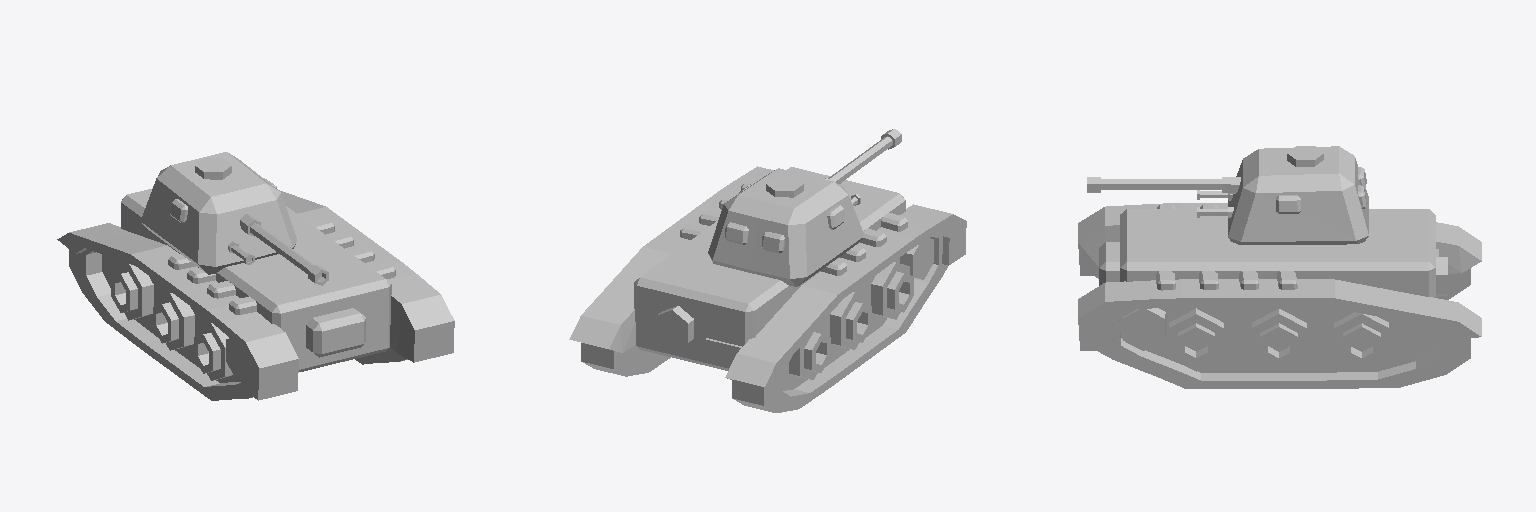
The model's file is tank.obj.
3 renders of one model, left to right at view 1: azimuth 30°, elevation 25°; view 2: azimuth 150°, elevation 25°; view 3: azimuth 270°, elevation 25°, orthographic.
Parts seen in each view (by area): view 1: Cube.003, Cube.001, Cube, Cube.002, Cube.006, Cube.004, Plane, Circle.001, Circle.003; view 2: Cube.003, Cube.001, Cube, Cube.002, Cube.006, Cube.004, Circle.004, Cube.005, Circle.001, Cube.007, Circle.003; view 3: Cube.001, Cube.003, Cube.002, Cube, Cube.006, Circle.001, Cube.004, Cube.007, Plane, Cube.005, Circle.003, Circle.002.
Part boxes in pixels (x1,y1,x2,y2): Cube.003: (57, 189, 454, 400); Cube.001: (121, 188, 391, 371); Cube: (141, 152, 296, 274); Cube.002: (69, 249, 407, 400); Cube.006: (111, 263, 232, 380); Cube.004: (168, 218, 395, 314); Plane: (306, 308, 365, 357); Circle.001: (240, 213, 328, 285); Circle.003: (195, 158, 231, 179); Cube.003: (569, 166, 966, 386); Cube.001: (634, 167, 905, 370); Cube: (708, 168, 864, 286); Cube.002: (581, 234, 947, 412); Cube.006: (789, 262, 913, 379); Cube.004: (680, 180, 907, 275); Circle.004: (656, 306, 693, 348); Cube.005: (725, 184, 845, 253); Circle.001: (825, 129, 901, 183); Cube.007: (900, 238, 933, 279); Circle.003: (766, 177, 803, 197); Cube.001: (1120, 209, 1435, 297); Cube.003: (1078, 203, 1481, 350); Cube.002: (1095, 268, 1470, 388); Cube: (1228, 146, 1368, 244); Cube.006: (1169, 308, 1388, 371); Circle.001: (1087, 177, 1240, 193); Cube.004: (1156, 204, 1297, 290); Cube.007: (1123, 308, 1165, 350); Plane: (1099, 242, 1119, 285); Cube.005: (1276, 167, 1366, 213); Circle.003: (1287, 146, 1323, 166); Circle.002: (1197, 190, 1233, 217).
Size of the model in its own units: 3.45 by 2.99 by 6.18.